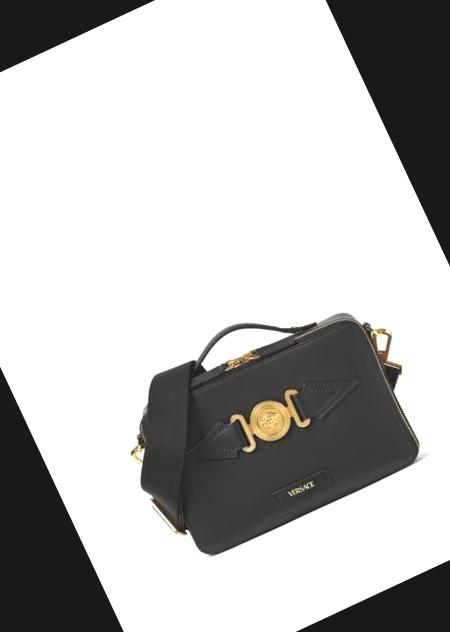VERSACE: (244, 392, 298, 448)
